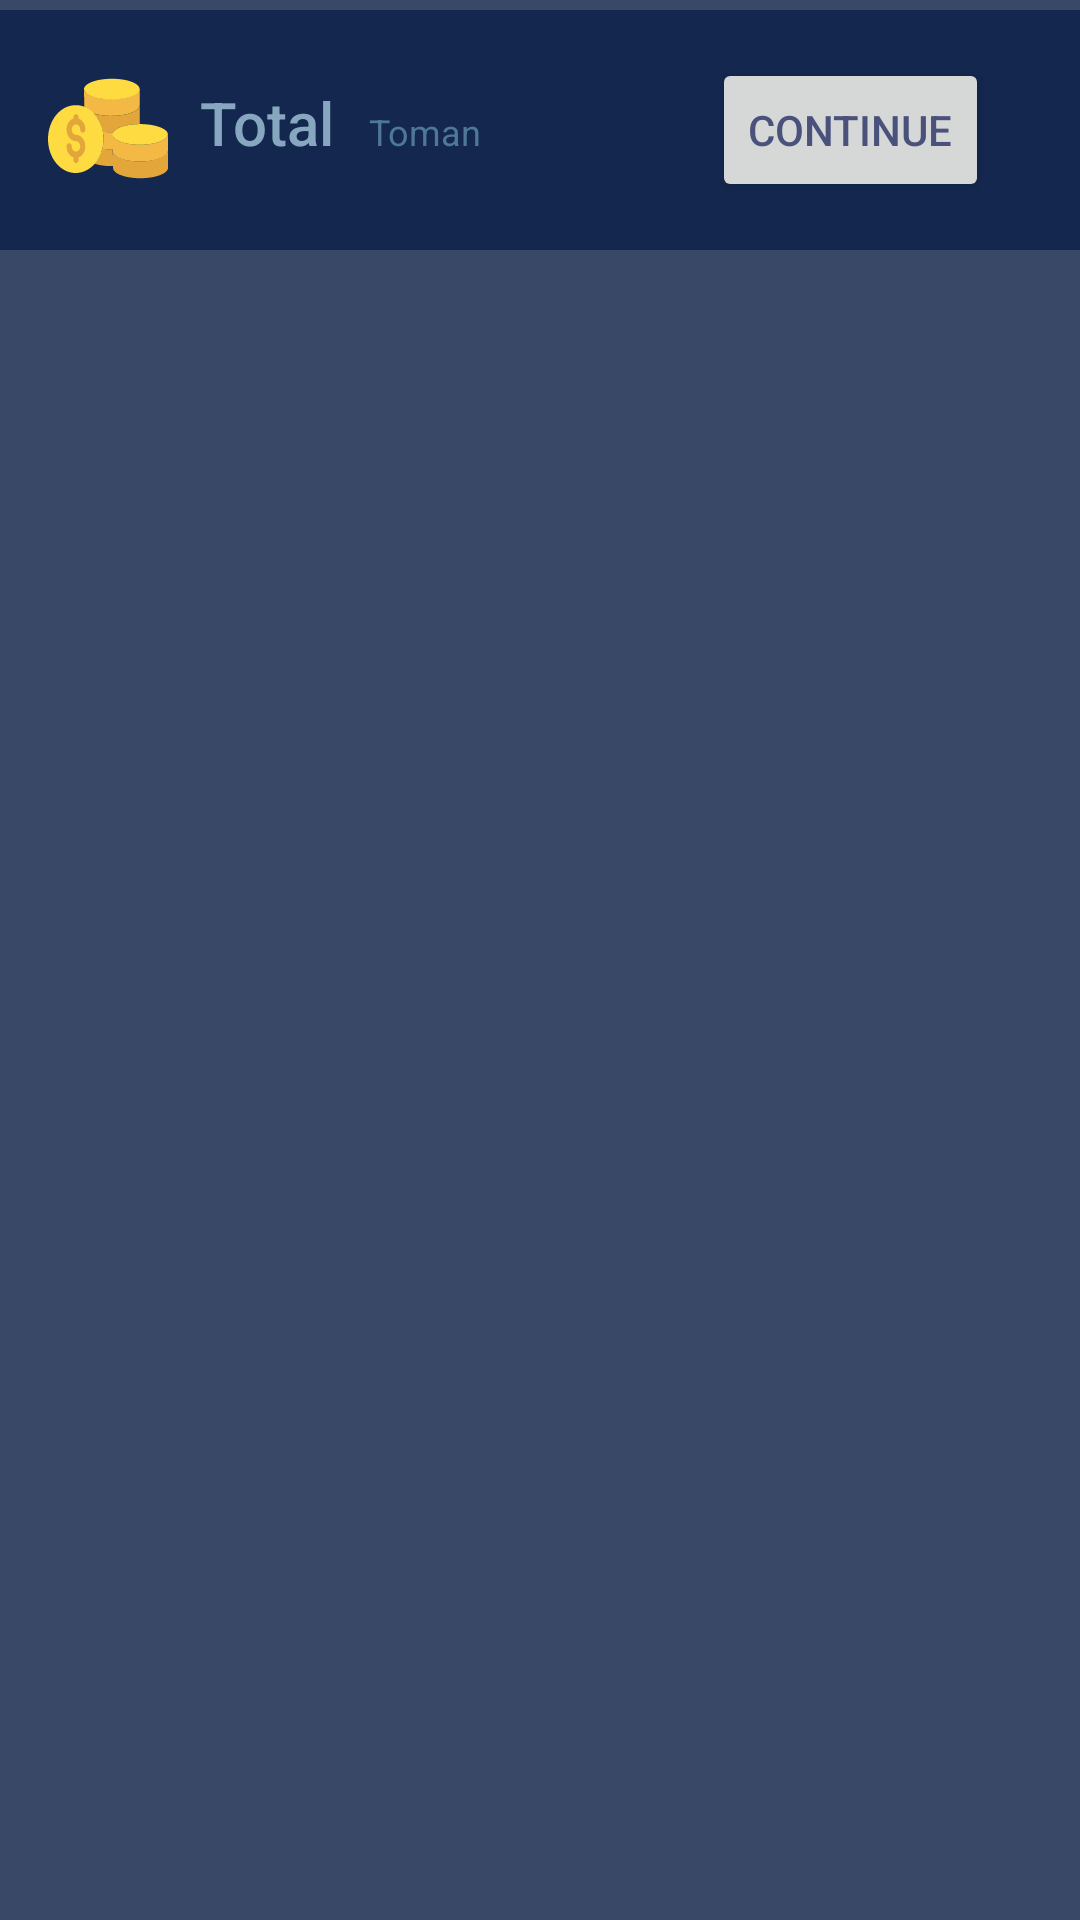

Where icons sit on this 1080×1920 app screen, as (x1, y1, x2, y2):
dollar: (48, 78, 168, 179)
